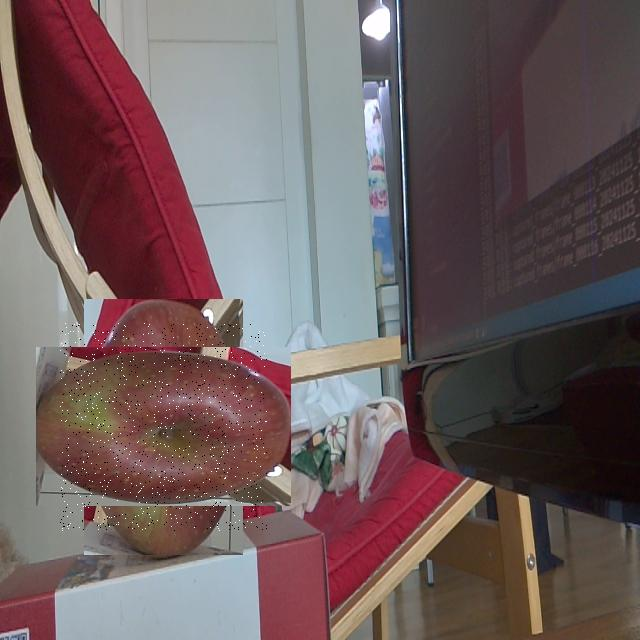apple: (60, 323, 267, 531)
